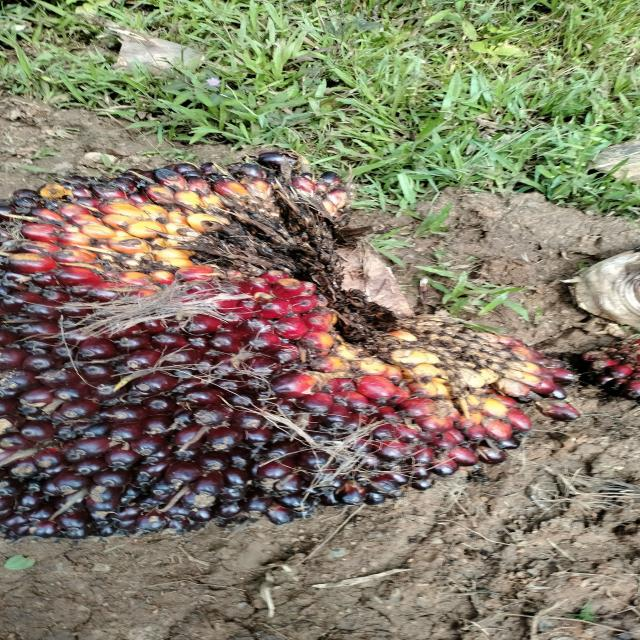fraksi 1: (0, 122, 583, 593)
